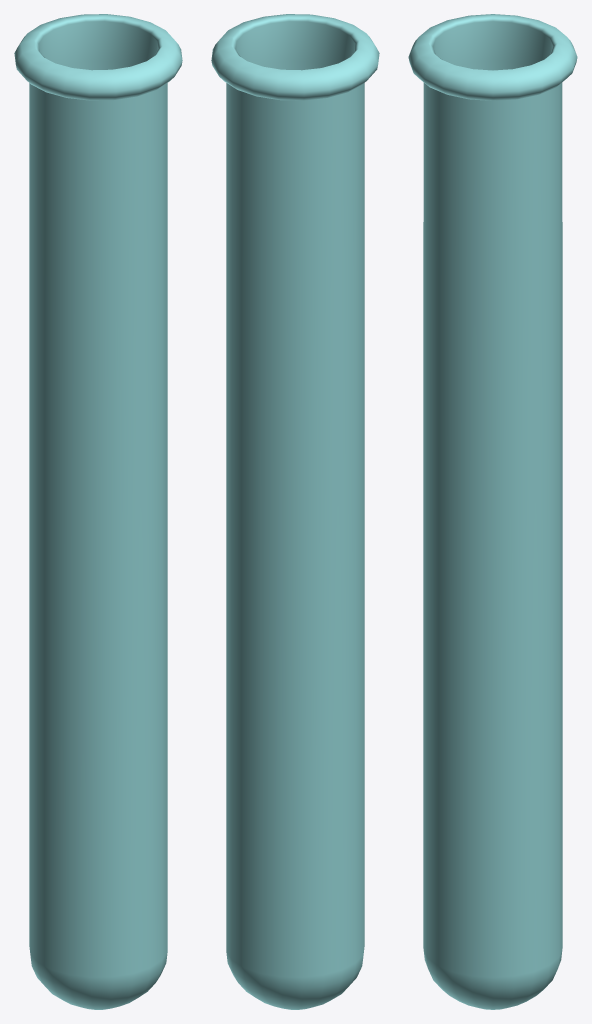
Rendered from Vial.fbx.
3 renders of one model, left to right at view 1: azimuth 30°, elevation 25°; view 2: azimuth 150°, elevation 25°; view 3: azimuth 270°, elevation 25°, orthographic.
Visible parts, largest first — view 1: Flask_02; view 2: Flask_02; view 3: Flask_02.
Part boxes in pixels (left/top/right/bottom): Flask_02: left=14, top=14, right=182, bottom=1009; Flask_02: left=211, top=14, right=379, bottom=1009; Flask_02: left=408, top=14, right=577, bottom=1009.
Size of the model in its own units: 0.0418 by 0.2624 by 0.0418.
